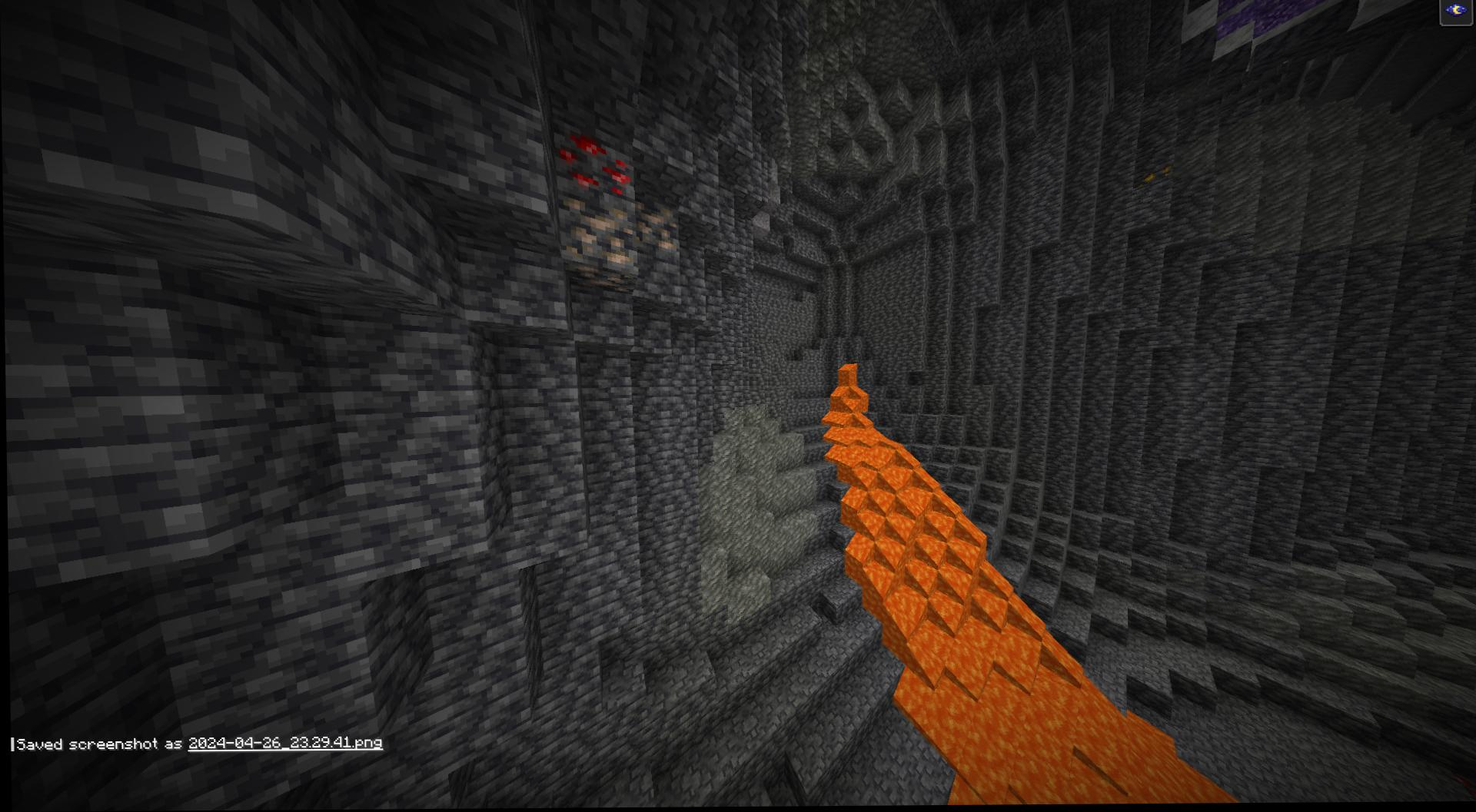gold ore: (1133, 168, 1182, 196)
iron ore: (557, 204, 636, 290), (635, 195, 678, 248)
redstone ore: (553, 131, 632, 202)
